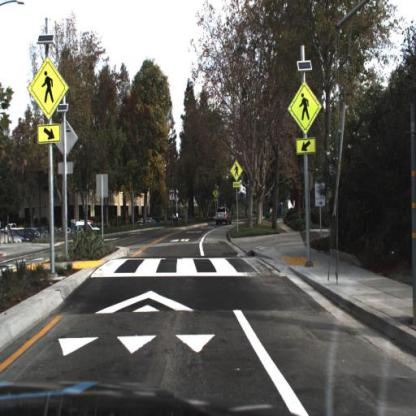car: (216, 207, 232, 228)
